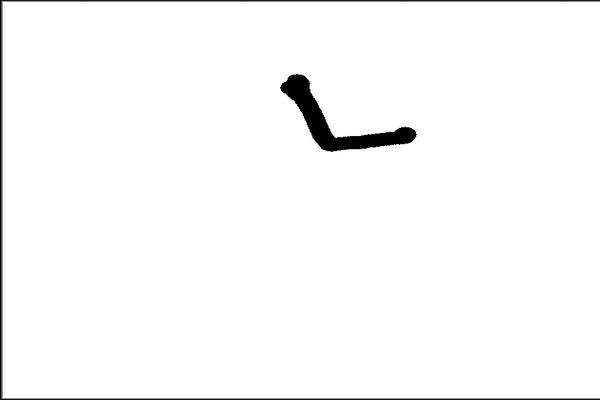L: (267, 67, 432, 158)
